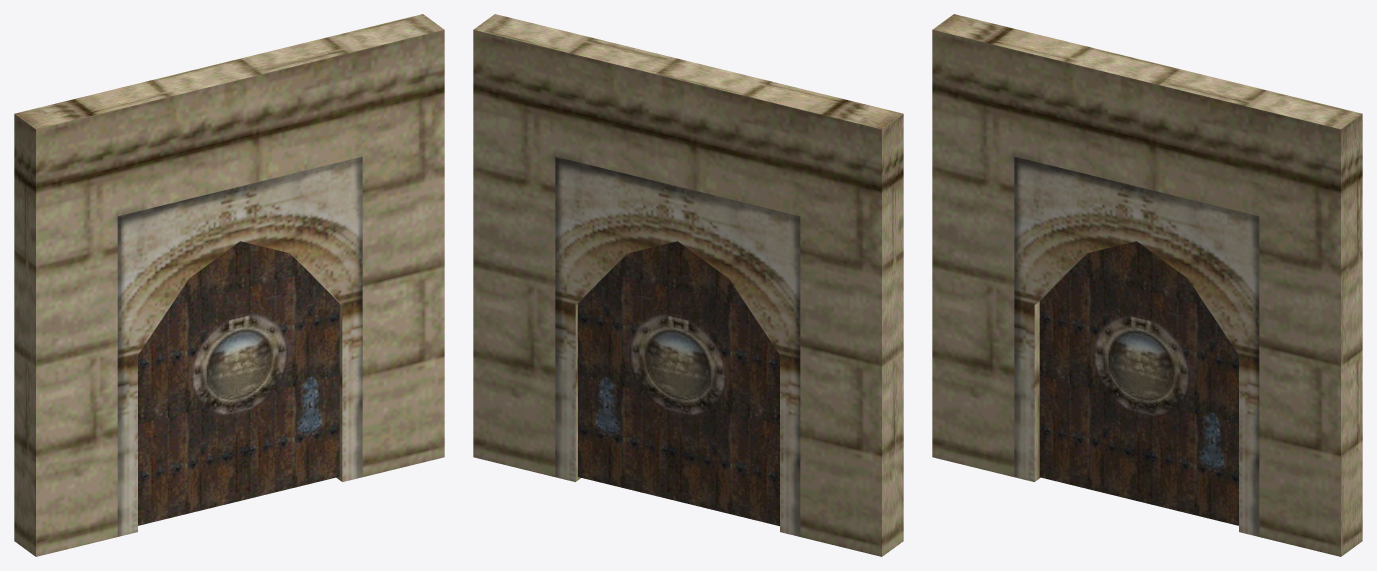
File: Door02.fbx
3 renders of one model, left to right at view 1: azimuth 30°, elevation 25°; view 2: azimuth 150°, elevation 25°; view 3: azimuth 330°, elevation 25°, orthographic.
Parts seen in each view (by area): view 1: WallDoor02, Door02; view 2: WallDoor02, Door02; view 3: WallDoor02, Door02.
Boxes of the visible parts, x1=… form: WallDoor02: x1=14, y1=14, x2=444, y2=556; Door02: x1=138, y1=241, x2=339, y2=525; WallDoor02: x1=473, y1=14, x2=903, y2=556; Door02: x1=578, y1=241, x2=779, y2=526; WallDoor02: x1=932, y1=14, x2=1362, y2=556; Door02: x1=1039, y1=241, x2=1238, y2=525.
Bounding box in the file's own units: 400 × 400 × 36.48.
